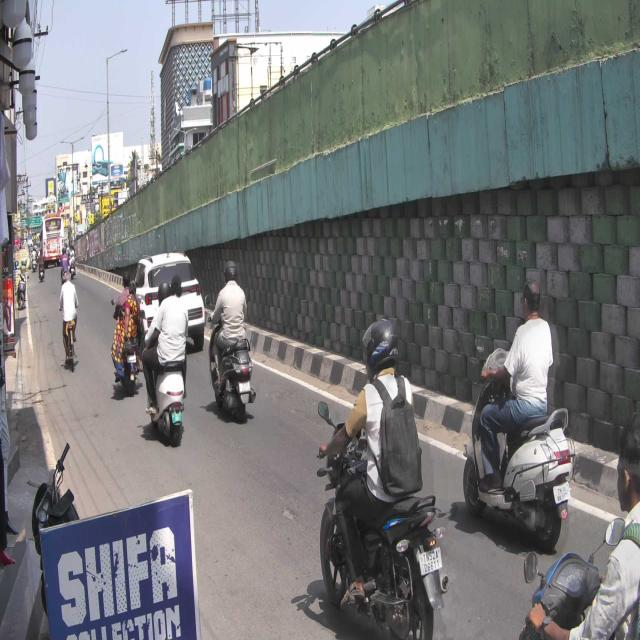single_rider: (314, 316, 450, 640), (464, 278, 576, 548), (205, 260, 257, 424)
